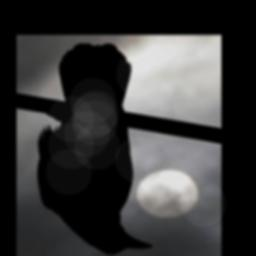Crow: (36, 42, 154, 255)
